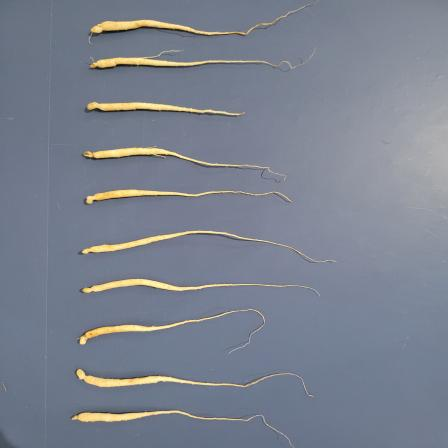Ginseng: (80, 229, 337, 265), (77, 306, 269, 354), (71, 408, 296, 448), (90, 1, 319, 40), (73, 365, 318, 398), (78, 144, 288, 180), (87, 48, 318, 73), (79, 277, 323, 297), (86, 189, 290, 207), (83, 99, 243, 119)
head: (75, 368, 91, 383), (90, 22, 104, 34), (78, 331, 90, 345), (86, 101, 101, 112), (86, 192, 99, 204), (82, 150, 97, 160), (82, 284, 97, 294), (90, 58, 102, 70), (72, 412, 86, 422), (82, 246, 94, 255)
